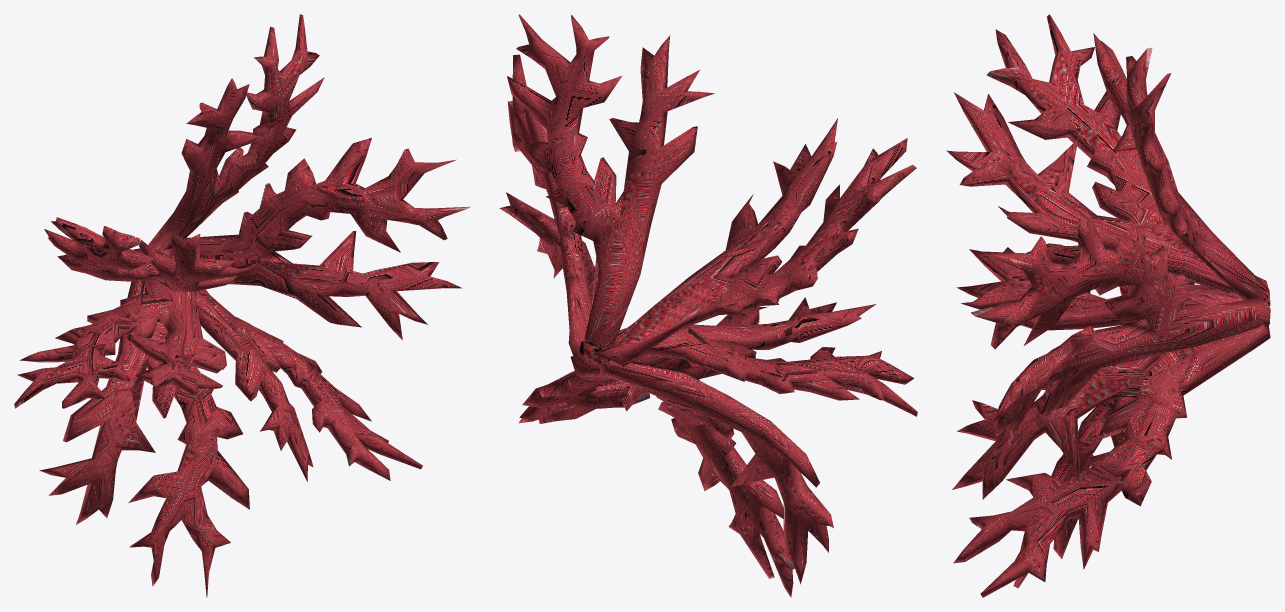
The model's file is Spiky.obj.
3 renders of one model, left to right at view 1: azimuth 30°, elevation 25°; view 2: azimuth 150°, elevation 25°; view 3: azimuth 270°, elevation 25°, orthographic. The views are drawn at different scales.
Parts seen in each view (by area): view 1: Spiky; view 2: Spiky; view 3: Spiky.
Part boxes in pixels (left/top/right/bottom): Spiky: left=14, top=14, right=470, bottom=597; Spiky: left=499, top=14, right=917, bottom=597; Spiky: left=946, top=14, right=1270, bottom=597.
Bounding box in the file's own units: 69.25 × 81.52 × 39.22.
Materials: 1 (1 with a texture image).
